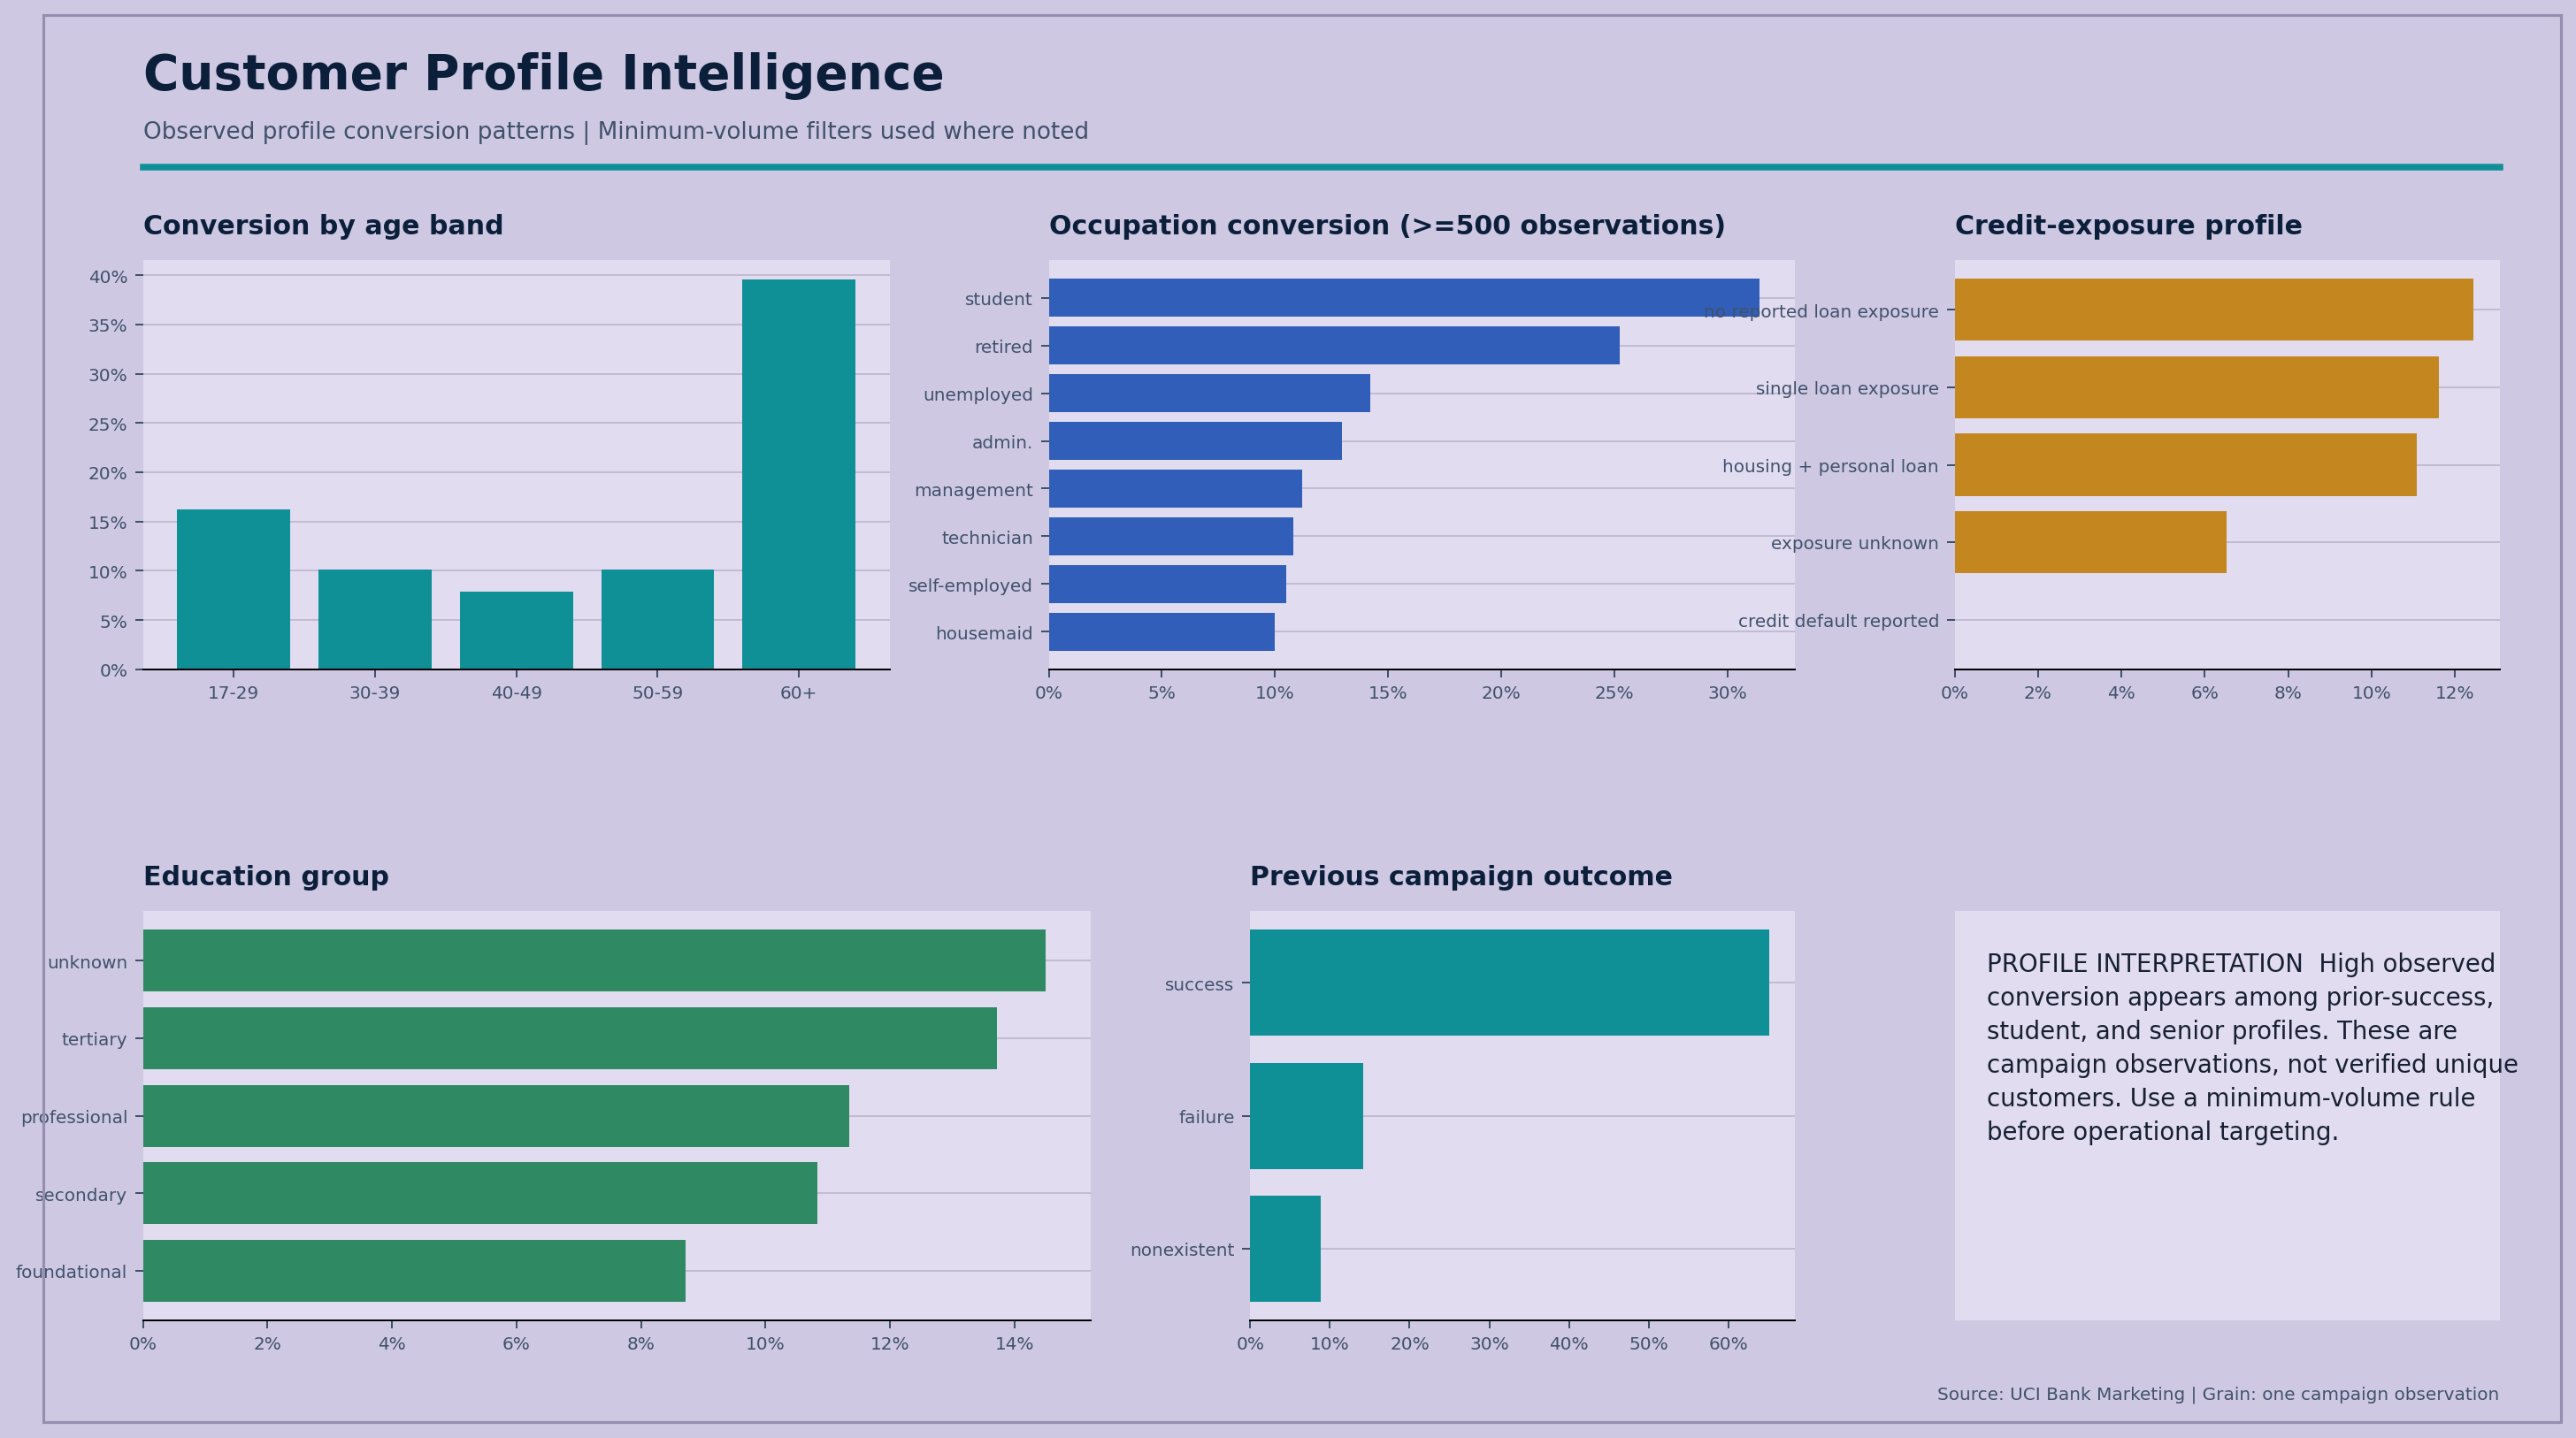

The page's visual inventory and layout, read from the dashboard file:
{"tool":"powerbi","page":{"name":"Customer Profile Intelligence","canvas":[1280,720],"ordinal":1},"visuals":[{"type":"shape","box":[45,8.3,1188.3,91.7],"z":0},{"type":"clusteredBarChart","title":"Conversion by Age Band","fields":{"Category":["dim_customer_profile.age_band"],"Y":["_Measures.Deposit Conversion Rate"]},"box":[45,106.7,335,223.3],"z":1000},{"type":"clusteredBarChart","title":"Conversion by Previous Campaign Outcome","fields":{"Category":["fact_campaign_contact.previous_outcome"],"Y":["_Measures.Deposit Conversion Rate"]},"box":[390,107,394,223],"z":2000},{"type":"textbox","box":[125.2,16,425.7,55.7],"z":3000},{"type":"textbox","box":[128.1,64.5,627.1,30],"z":4000},{"type":"image","box":[58.2,26.4,63.6,63.6],"z":5000},{"type":"clusteredBarChart","title":"Conversion by Occupation","fields":{"Category":["dim_customer_profile.job"],"Y":["_Measures.Deposit Conversion Rate"]},"box":[45,336.7,608.3,365],"z":6000},{"type":"clusteredBarChart","title":"Conversion by Education Group","fields":{"Category":["dim_customer_profile.education_group"],"Y":["_Measures.Deposit Conversion Rate"]},"box":[670,336.7,563.3,365],"z":7000},{"type":"clusteredBarChart","title":"Conversion by Credit Exposure","fields":{"Category":["dim_customer_profile.credit_exposure_profile"],"Y":["_Measures.Deposit Conversion Rate"]},"box":[794,107,440,223],"z":8000}]}

Visuals, with their boxes in screenshot pixels (x1, y1, x2, y2), scaled from the page's 1280x720 canvas onto the 2576x1438 screenshot:
shape: select_region(90, 17, 2482, 200)
"Conversion by Age Band" clusteredBarChart: select_region(90, 213, 764, 659)
"Conversion by Previous Campaign Outcome" clusteredBarChart: select_region(785, 214, 1578, 659)
textbox: select_region(252, 32, 1108, 143)
textbox: select_region(257, 129, 1520, 188)
image: select_region(117, 53, 245, 180)
"Conversion by Occupation" clusteredBarChart: select_region(90, 672, 1315, 1402)
"Conversion by Education Group" clusteredBarChart: select_region(1348, 672, 2482, 1402)
"Conversion by Credit Exposure" clusteredBarChart: select_region(1598, 214, 2483, 659)
